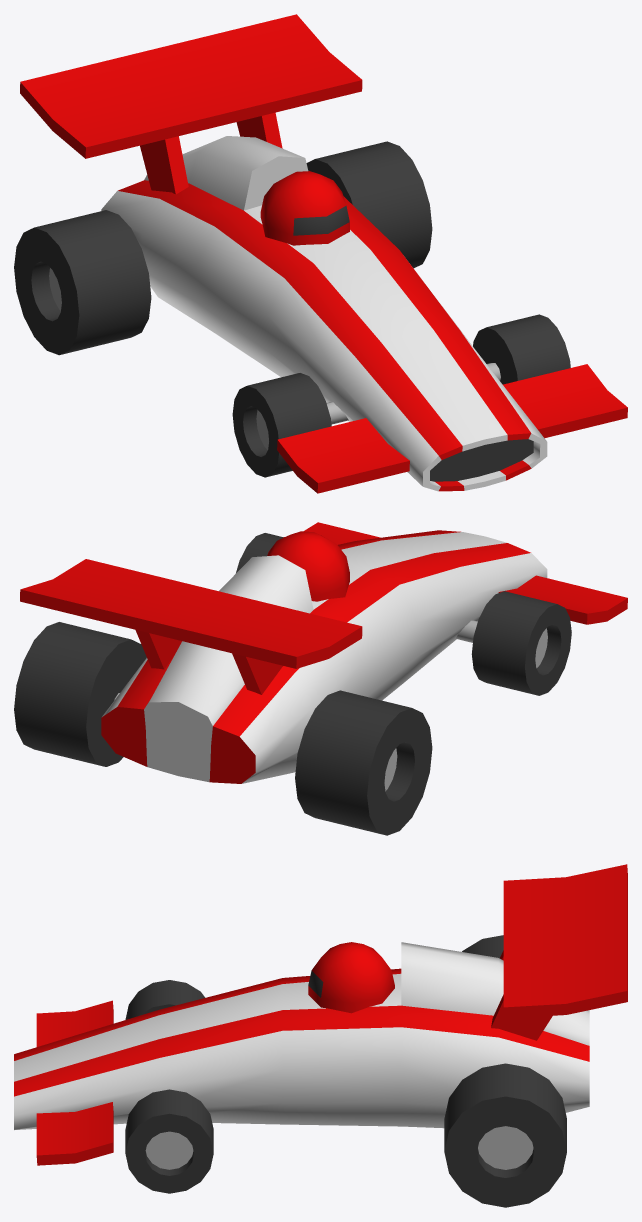
The model's file is Car.fbx.
3 renders of one model, top to bottom at view 1: azimuth 30°, elevation 25°; view 2: azimuth 150°, elevation 25°; view 3: azimuth 270°, elevation 25°, orthographic. The views are drawn at different scales.
Visible parts, largest first — view 1: Body, Spoiler_Back, Wheel_R2, Spoiler_Front, Wheel_L2, Wheel_R1, Helm, Wheel_L1, SpoilerHolder_R, SpoilerHolder_L; view 2: Body, Spoiler_Back, Wheel_R2, Wheel_L2, Wheel_R1, Spoiler_Front, Helm, SpoilerHolder_R, SpoilerHolder_L, Wheel_L1; view 3: Body, Spoiler_Back, Wheel_L2, Wheel_L1, Spoiler_Front, Helm, Wheel_R1, SpoilerHolder_L, Wheel_R2.
Boxes of the visible parts, left/top/right/bottom form: Body: left=101, top=136, right=547, bottom=491; Spoiler_Back: left=20, top=14, right=362, bottom=158; Wheel_R2: left=14, top=210, right=151, bottom=355; Spoiler_Front: left=277, top=364, right=627, bottom=493; Wheel_L2: left=306, top=141, right=432, bottom=268; Wheel_R1: left=232, top=373, right=331, bottom=477; Helm: left=260, top=171, right=349, bottom=245; Wheel_L1: left=473, top=314, right=570, bottom=384; SpoilerHolder_R: left=140, top=136, right=188, bottom=194; SpoilerHolder_L: left=236, top=112, right=282, bottom=148; Body: left=101, top=530, right=547, bottom=783; Spoiler_Back: left=20, top=559, right=362, bottom=668; Wheel_R2: left=295, top=690, right=432, bottom=835; Wheel_L2: left=14, top=622, right=146, bottom=766; Wheel_R1: left=471, top=591, right=571, bottom=695; Spoiler_Front: left=284, top=522, right=627, bottom=624; Helm: left=267, top=531, right=349, bottom=601; SpoilerHolder_R: left=232, top=653, right=282, bottom=694; SpoilerHolder_L: left=135, top=630, right=181, bottom=669; Wheel_L1: left=236, top=533, right=283, bottom=572; Body: left=14, top=942, right=589, bottom=1130; Spoiler_Back: left=503, top=864, right=627, bottom=1018; Wheel_L2: left=444, top=1063, right=566, bottom=1207; Wheel_L1: left=125, top=1089, right=213, bottom=1193; Spoiler_Front: left=36, top=1000, right=113, bottom=1165; Helm: left=308, top=942, right=394, bottom=1013; Wheel_R1: left=125, top=980, right=205, bottom=1019; SpoilerHolder_L: left=491, top=994, right=552, bottom=1040; Wheel_R2: left=462, top=935, right=503, bottom=958.
Bounding box in the file's own units: 2.11 × 1.21 × 3.39.
